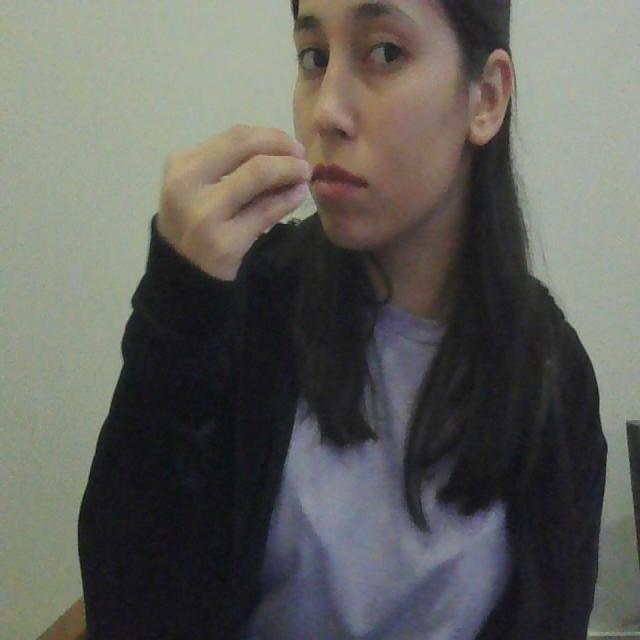Yemek: (146, 115, 352, 228)
